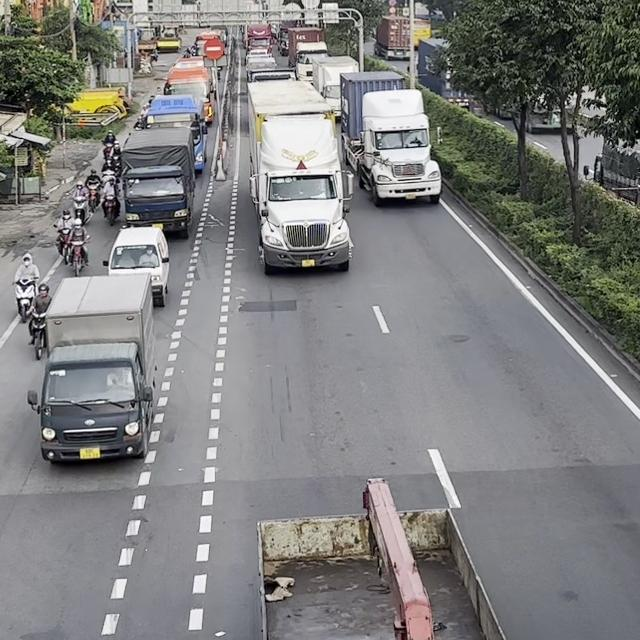bus: (144, 93, 208, 173), (163, 64, 216, 125)
car: (102, 225, 170, 307)
motorcycle: (27, 310, 49, 360), (13, 278, 36, 323), (67, 234, 91, 276), (100, 182, 120, 225), (53, 223, 72, 258), (71, 195, 89, 225), (85, 183, 100, 212)
truck: (254, 477, 498, 640), (26, 274, 154, 464), (246, 78, 354, 274), (339, 70, 442, 206), (118, 126, 196, 237), (310, 54, 360, 115), (286, 26, 327, 68), (244, 22, 272, 51)
